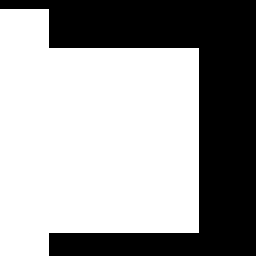rumex: (48, 48, 198, 232), (0, 9, 48, 256)
